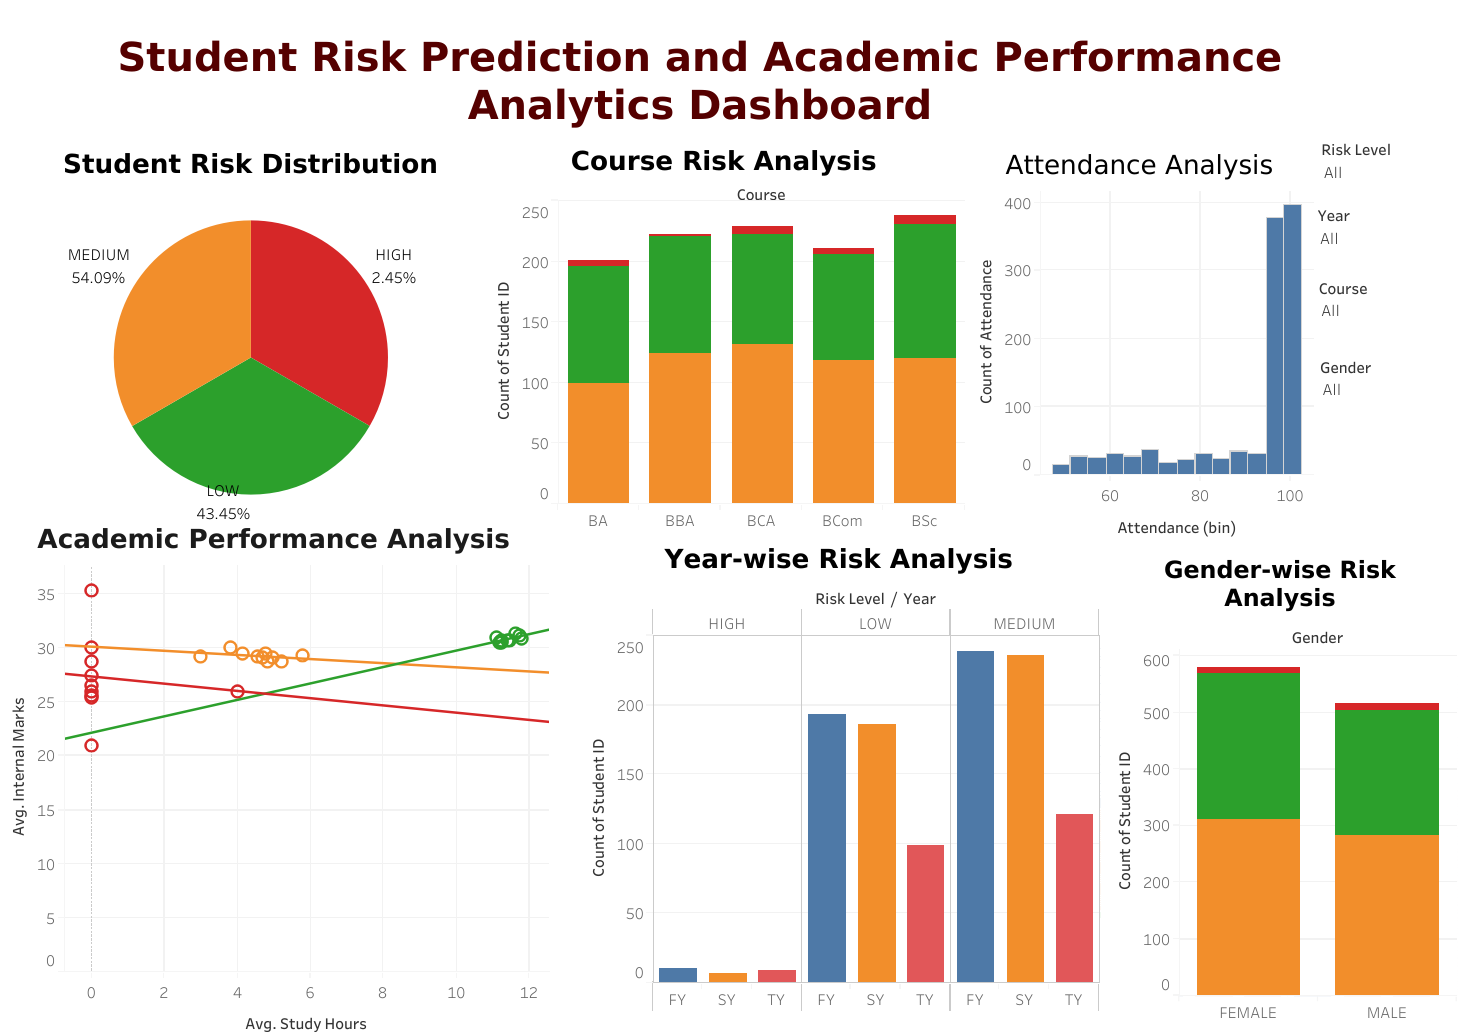

What the dashboard file says about the page in this screenshot:
{"tool":"tableau","page":{"name":"Dashboard 1","canvas":[1169,827],"ordinal":0},"visuals":[{"type":"text","box":[22.3,5.8,1075.5,116.8]},{"type":"filter","title":"Sheet 3","param":"[federated.090p7uq0s5a3jv13hgewt0juxmnt].[none:Risk Level:nk]","box":[1057,109,105,67]},{"type":"worksheet","title":"Sheet 3","mark":"Automatic","rows":["Student ID"],"cols":["Course"],"box":[386,110,386,315]},{"type":"worksheet","title":"Sheet 2","mark":"Pie","box":[23,112,355,308]},{"type":"worksheet","title":"Sheet 5","mark":"Automatic","rows":["Attendance"],"cols":["Attendance (bin)"],"box":[772,113,279,324]},{"type":"filter","title":"Sheet 6","param":"[federated.090p7uq0s5a3jv13hgewt0juxmnt].[none:Year:nk]","box":[1054,162,110,47]},{"type":"filter","title":"Sheet 3","param":"[federated.090p7uq0s5a3jv13hgewt0juxmnt].[none:Course:nk]","box":[1055,220,108,58]},{"type":"filter","title":"Sheet 1","param":"[federated.090p7uq0s5a3jv13hgewt0juxmnt].[none:Gender:nk]","box":[1056,283,106,55]},{"type":"worksheet","title":"Sheet 6","mark":"Automatic","rows":["Student ID"],"cols":["Risk Level","Year"],"box":[462,428,418,381]},{"type":"worksheet","title":"Sheet 1","mark":"Automatic","rows":["Student ID"],"cols":["Gender"],"box":[883,438,282,380]}]}

Visuals, with their boxes in screenshot pixels (x1, y1, x2, y2), scaled from the page's 1169x827 canvas onto the 1460x1033 screenshot:
text: 28/7/1371/153
"Sheet 3" filter: 1320/136/1451/220
"Sheet 3" worksheet: 482/137/964/531
"Sheet 2" worksheet (Pie marks): 29/140/472/525
"Sheet 5" worksheet: 964/141/1313/546
"Sheet 6" filter: 1316/202/1454/261
"Sheet 3" filter: 1318/275/1453/347
"Sheet 1" filter: 1319/353/1451/422
"Sheet 6" worksheet: 577/535/1099/1011
"Sheet 1" worksheet: 1103/547/1455/1022
